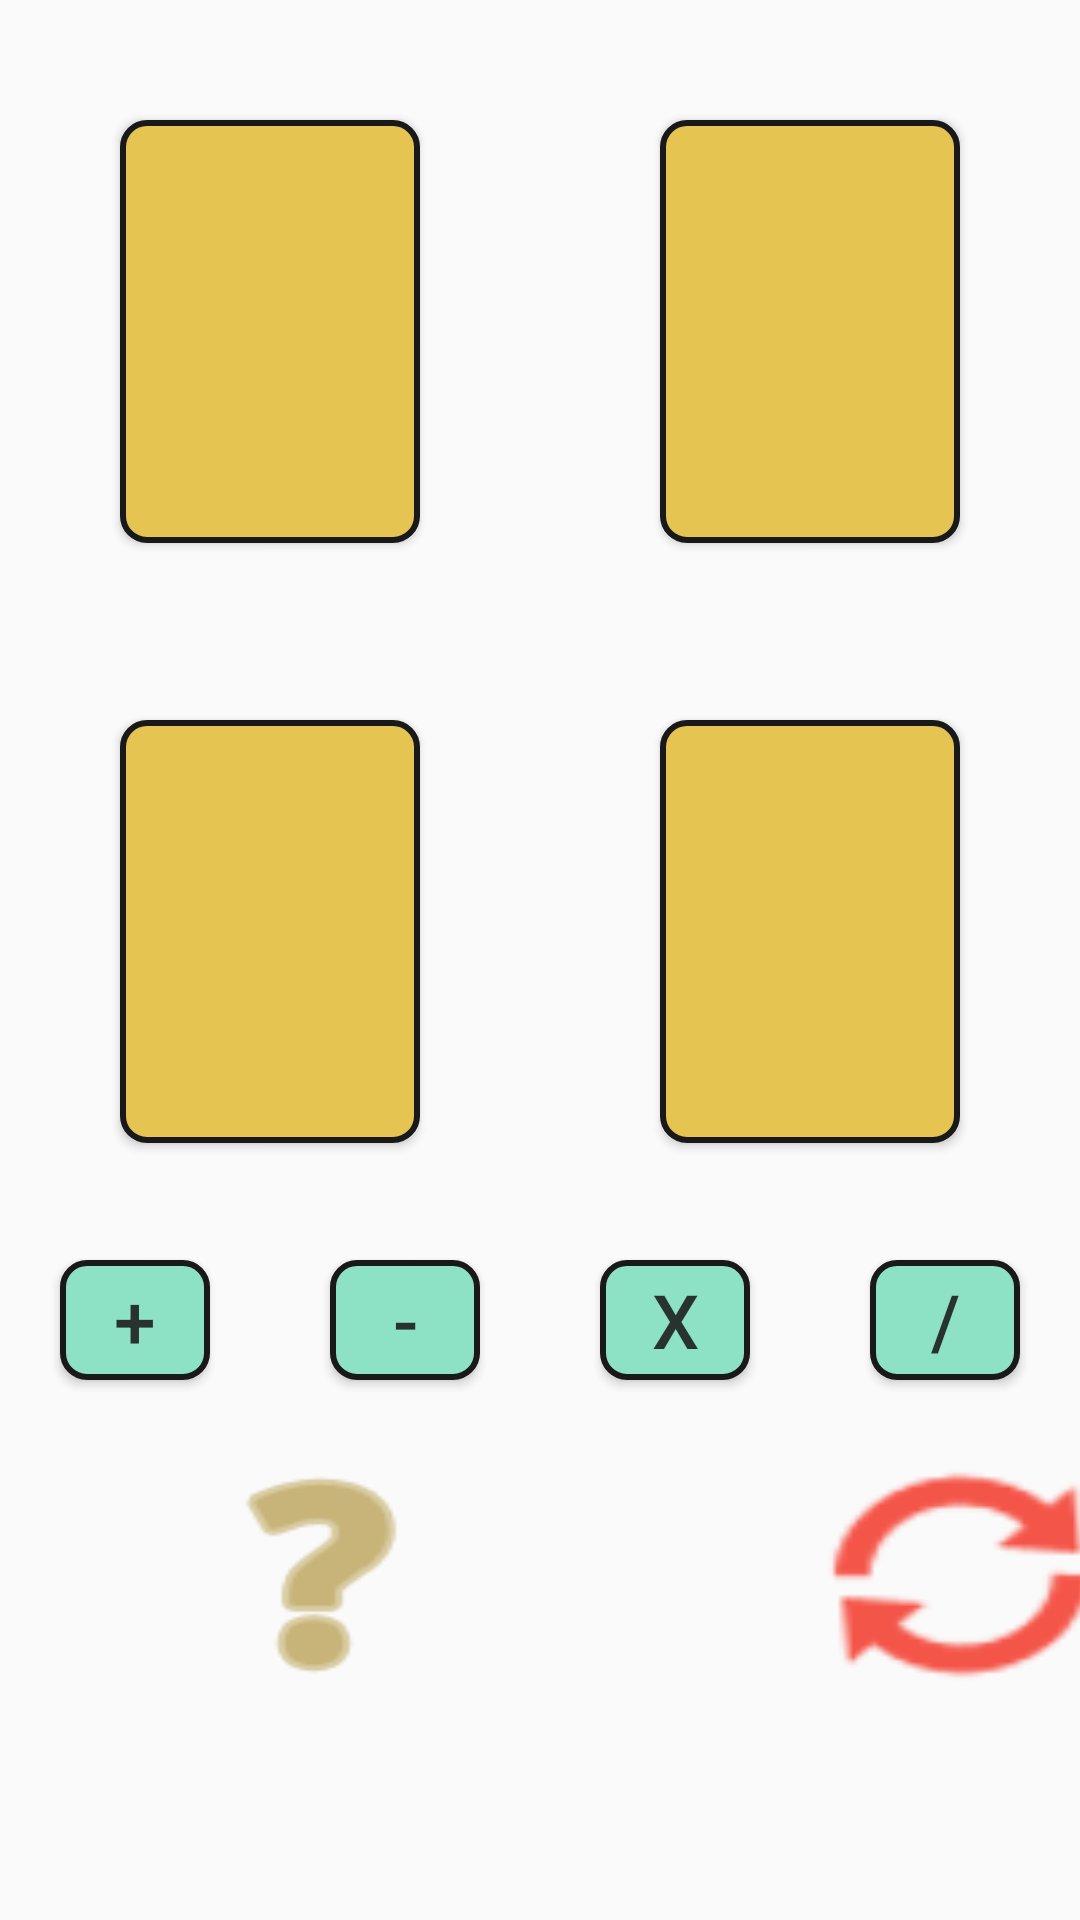

Icon bounding boxes for this 1080x1920 phone screenshot, format region(x1, y1, x2, y2):
help: region(246, 1478, 396, 1672)
